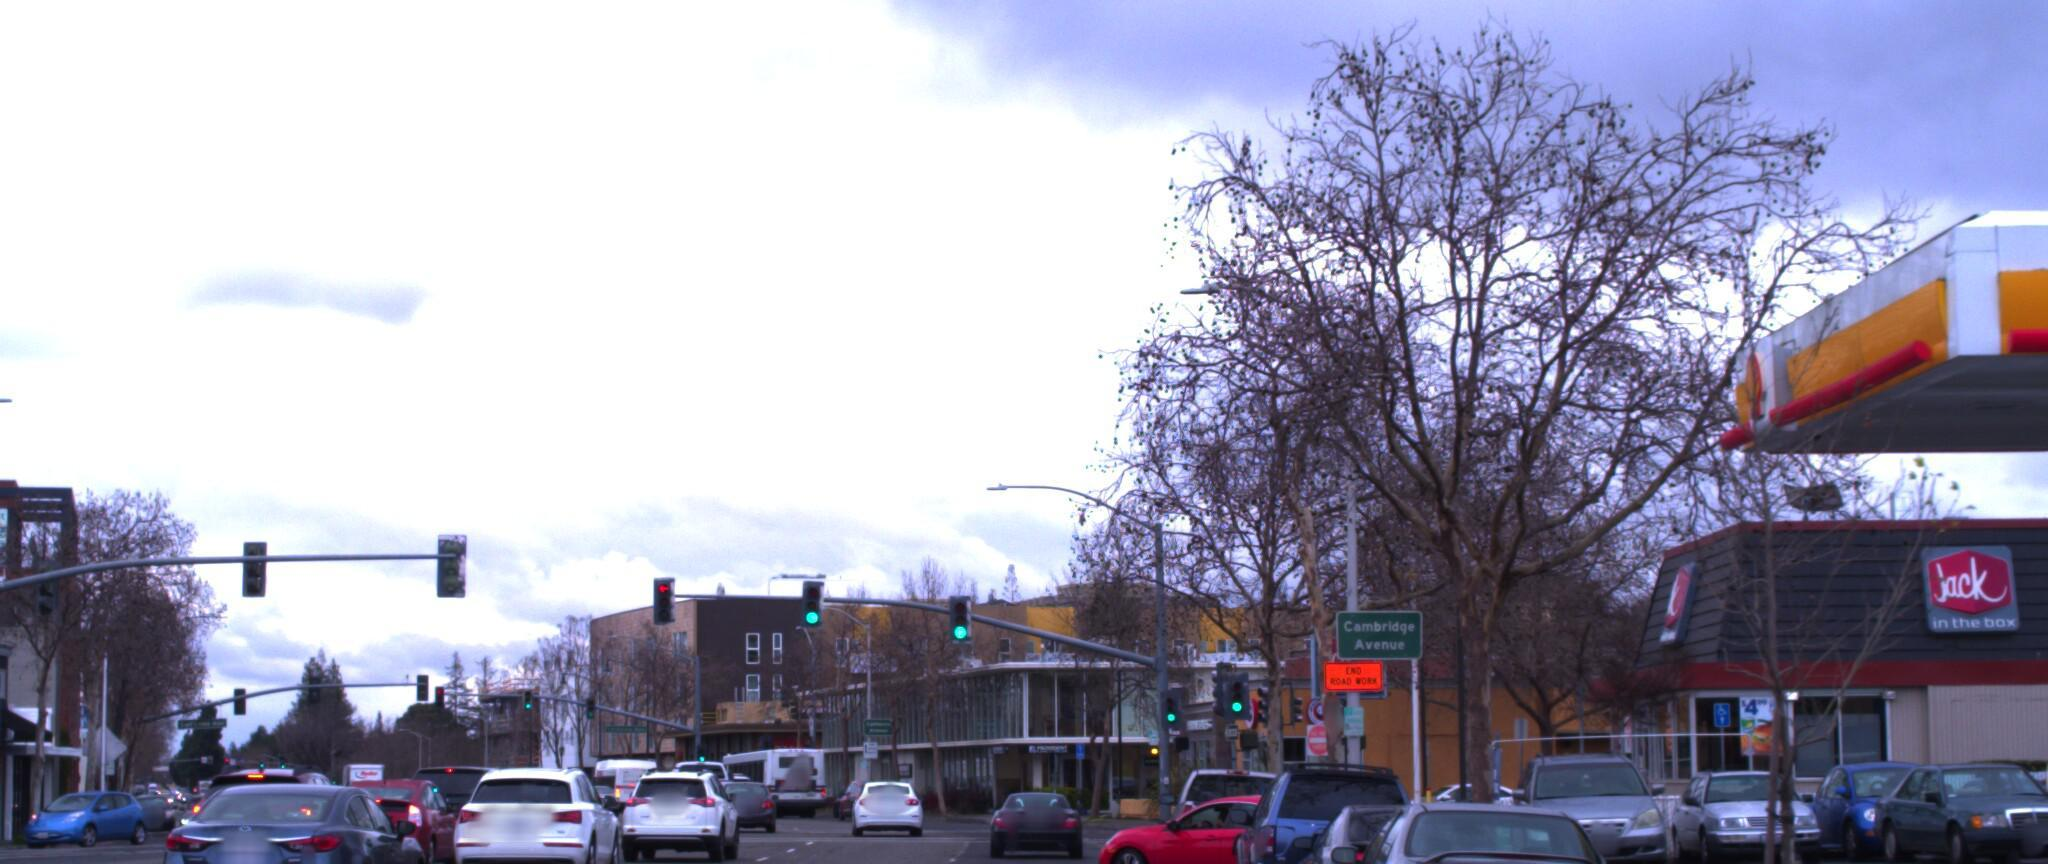car: (1302, 782, 1656, 864), (138, 777, 443, 864), (1075, 784, 1408, 864), (1215, 747, 1428, 864), (170, 750, 389, 864), (1494, 726, 1663, 863), (1853, 747, 2048, 861), (1268, 787, 1535, 864), (451, 758, 630, 864), (1791, 747, 1963, 854), (1656, 753, 1823, 861), (1159, 752, 1311, 864), (313, 764, 475, 864), (613, 766, 743, 863), (3, 786, 152, 843), (2000, 707, 2048, 854), (980, 769, 1075, 841), (861, 775, 936, 829), (707, 771, 775, 822)
